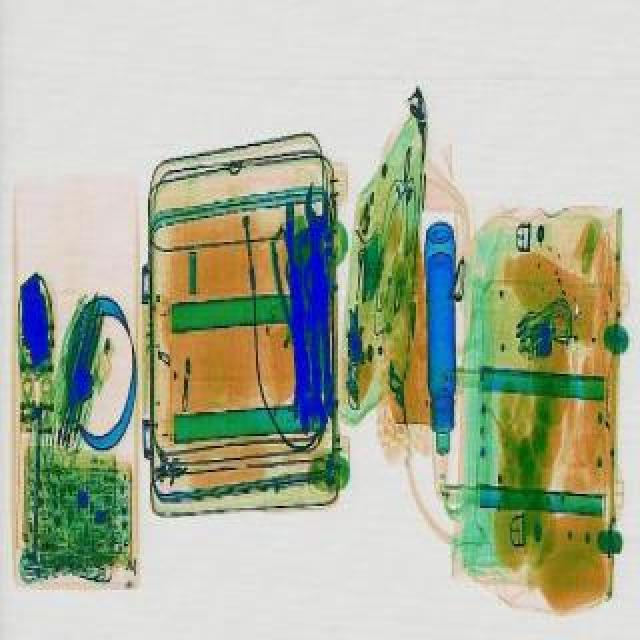scissors: (302, 180, 330, 314)
